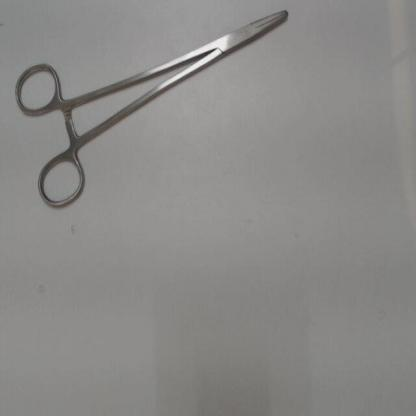8 Mayo Needle Holder: (8, 2, 305, 218)
